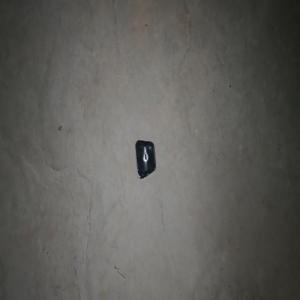LuggagePart: (134, 139, 156, 179)
